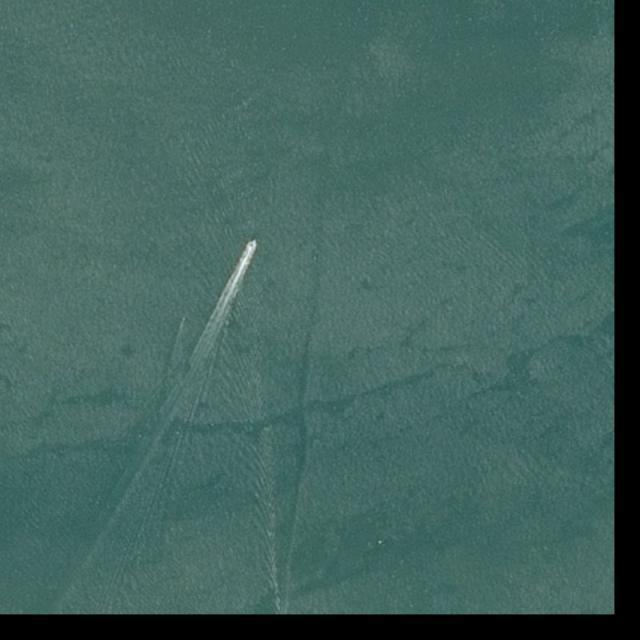ship: (246, 237, 258, 250), (179, 314, 187, 323)
